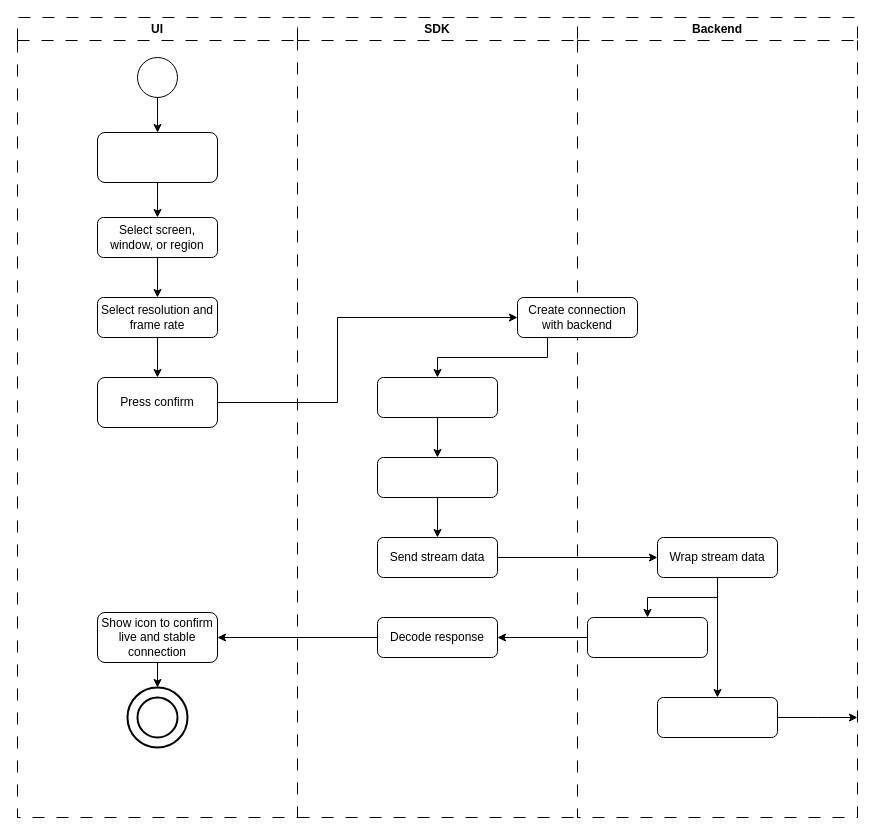
The diagram is 883 pixels wide and 836 high, and some of its shapes have lost their labels. Each missing label, with the box of its shape:
Encode stream: (376, 456, 498, 498)
Grab specified video stream: (376, 376, 498, 418)
Press share screen button in voice channel: (96, 132, 218, 182)
Send stream status response: (586, 616, 708, 658)
Send to other participants: (656, 696, 778, 738)
